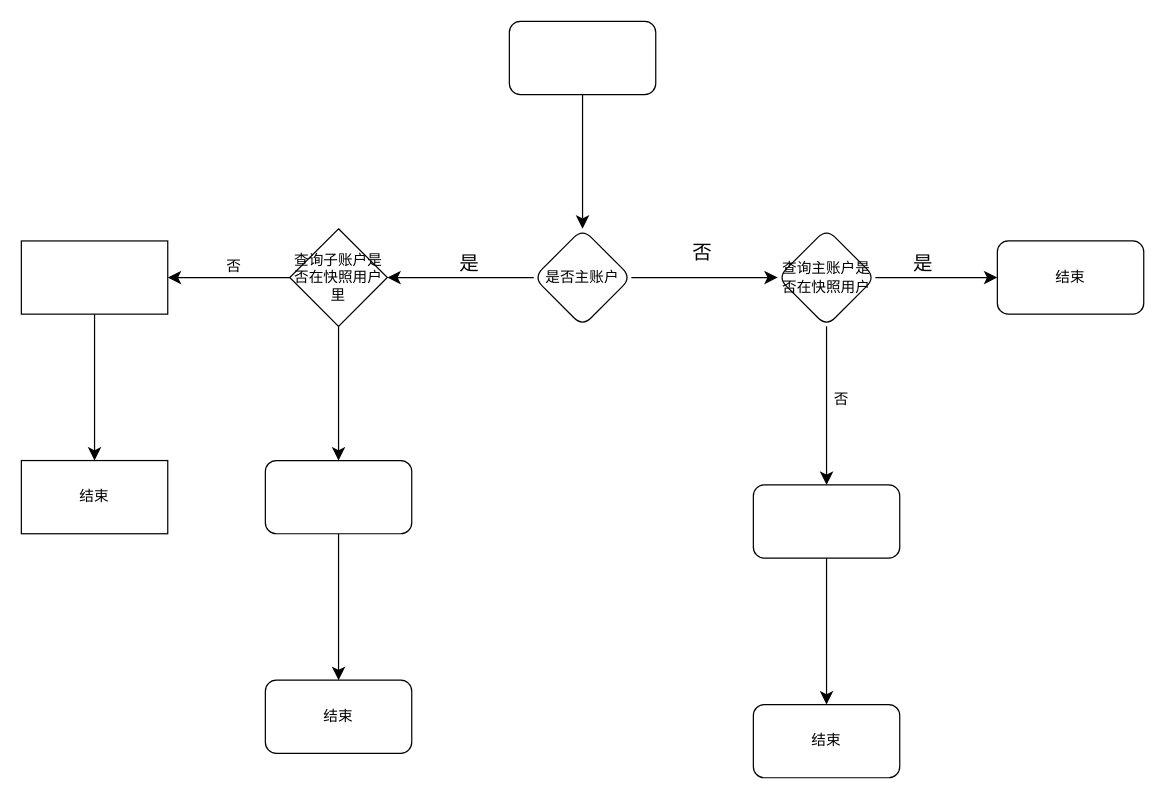
This 1165x799 diagram has some shape labels left out. Here are the shapes that lost their labels. From the top down, the centre of each, then its label:
the point at 582,57: 开始
the point at 94,277: 直接使用主账户数据
the point at 338,496: 合并子账户数据到主账户
the point at 826,521: 替换子账户为主账户id
